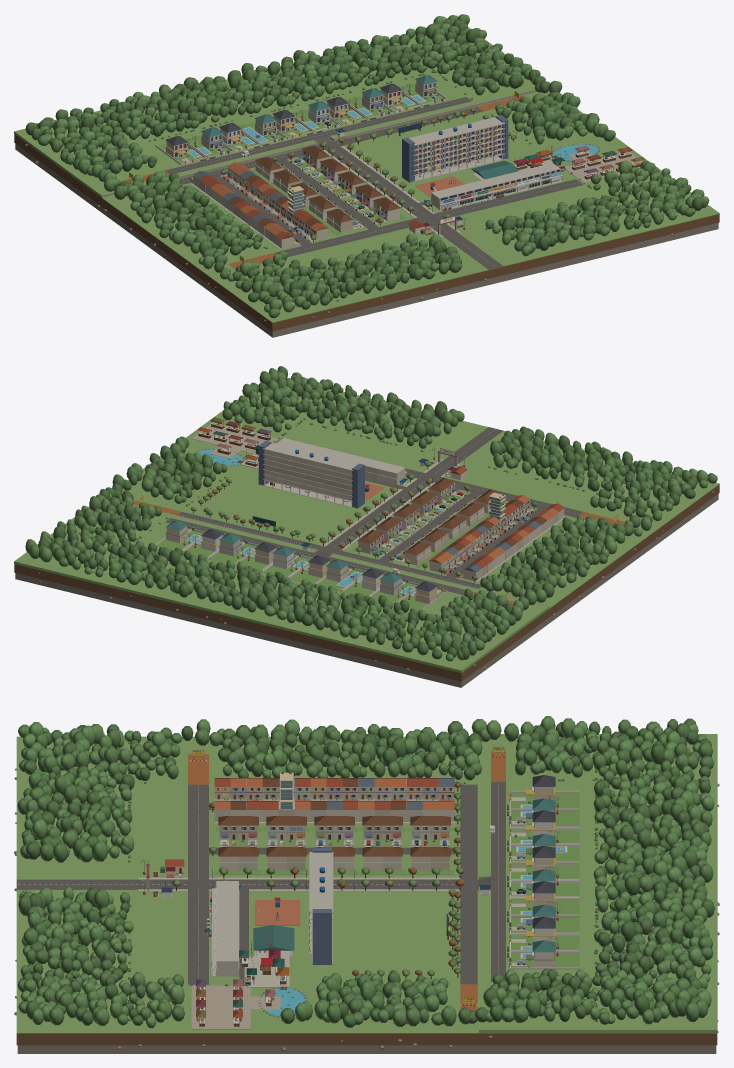
The model's file is town.glb.
The picture shows the model from 3 angles, top to bottom: view 1: azimuth 30°, elevation 25°; view 2: azimuth 150°, elevation 25°; view 3: azimuth 270°, elevation 25°; orthographic projection. The views are drawn at different scales.
Bounding box in the file's own units: 18.53 × 2.19 × 18.53.
Materials: 19 (18 with a texture image).
